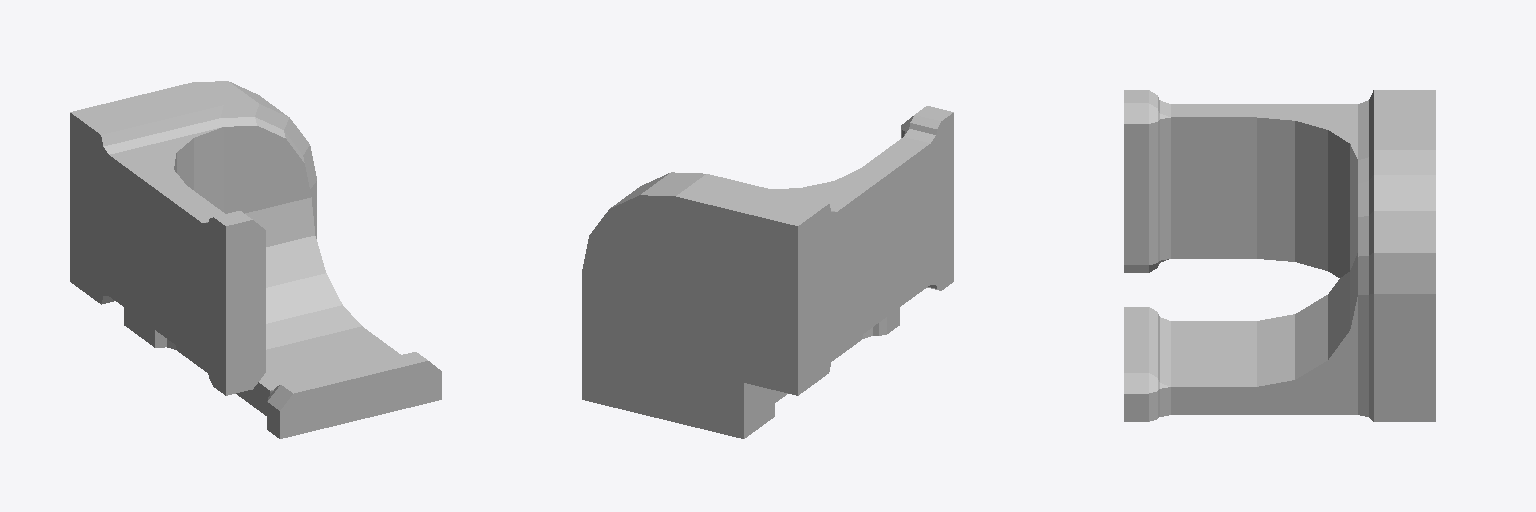
The picture shows the model from 3 angles: view 1: azimuth 30°, elevation 25°; view 2: azimuth 150°, elevation 25°; view 3: azimuth 270°, elevation 25°; orthographic projection.
Visible parts, largest first — view 1: wall_corner.001; view 2: wall_corner.001; view 3: wall_corner.001.
Part boxes in pixels (bbox=[...]): wall_corner.001: bbox=[70, 81, 441, 438]; wall_corner.001: bbox=[582, 106, 953, 438]; wall_corner.001: bbox=[1124, 90, 1435, 421].
Size of the model in its own units: 80 by 80 by 100.